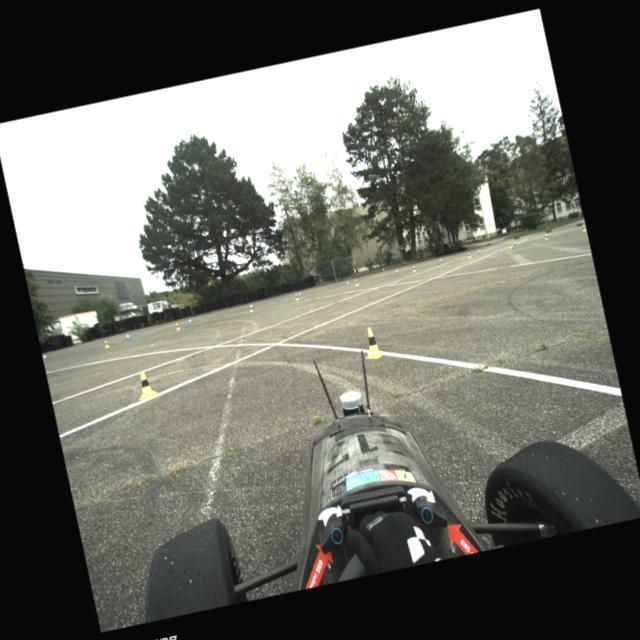blue_cone: (42, 352, 48, 361), (125, 332, 130, 340), (188, 317, 192, 323), (512, 239, 516, 245), (250, 302, 253, 308), (477, 248, 480, 254), (438, 258, 442, 262), (298, 291, 301, 296), (346, 280, 349, 285), (395, 268, 398, 273), (546, 232, 548, 237)
yellow_cone: (360, 326, 383, 360), (133, 369, 158, 400), (103, 339, 110, 348), (174, 322, 180, 330), (248, 304, 253, 312), (581, 224, 586, 231), (543, 233, 548, 240), (354, 278, 358, 286), (467, 252, 472, 258), (412, 265, 416, 272), (294, 293, 298, 300), (508, 242, 512, 248)
